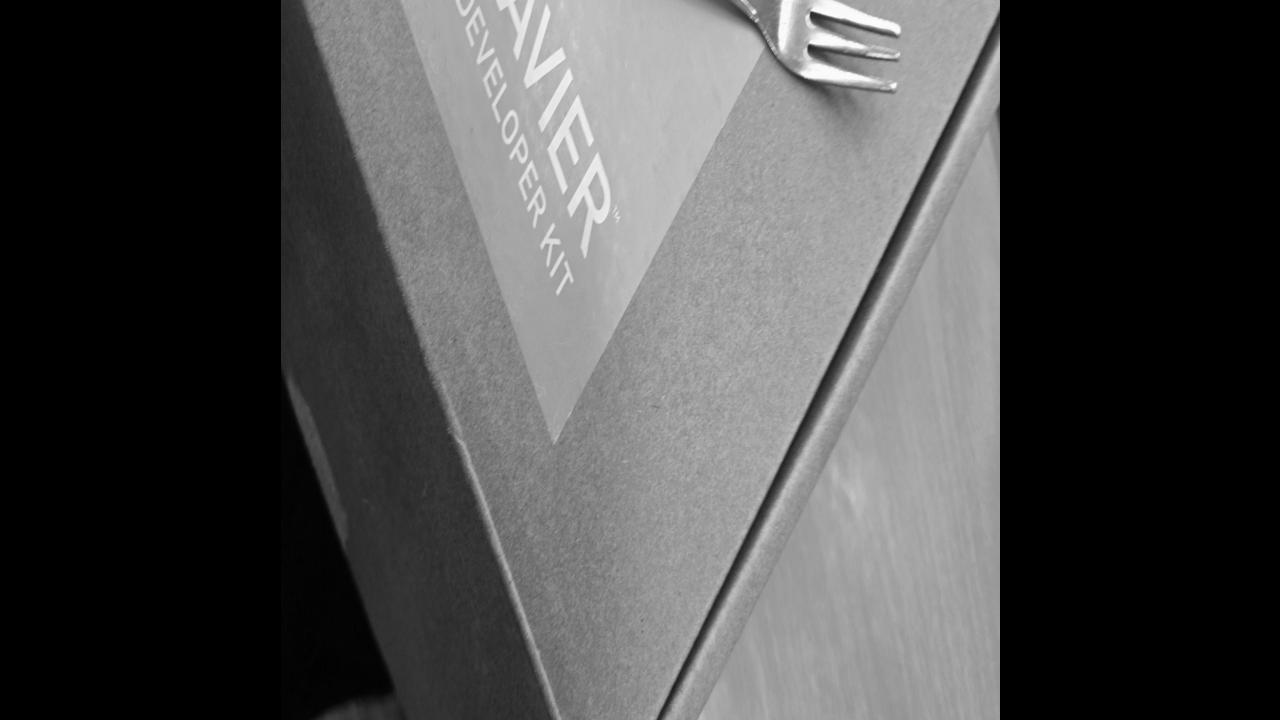fork: (413, 0, 900, 105)
